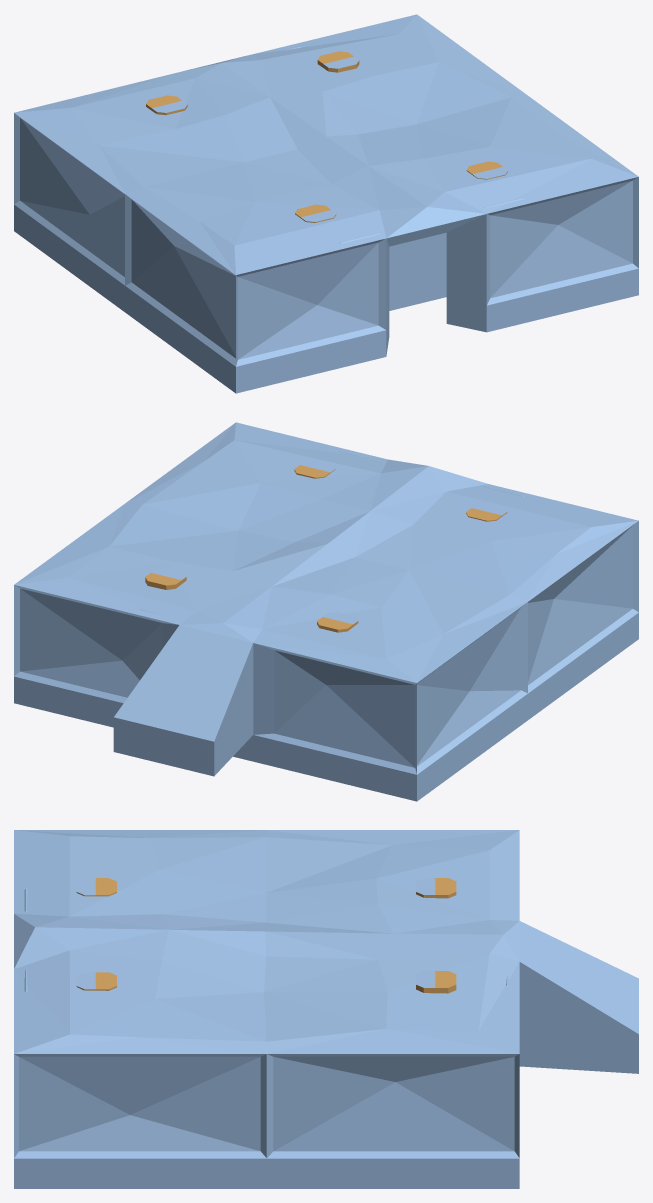
Rendered from vRoom_New.fbx.
The picture shows the model from 3 angles, top to bottom: view 1: azimuth 30°, elevation 25°; view 2: azimuth 150°, elevation 25°; view 3: azimuth 270°, elevation 25°; orthographic projection. The views are drawn at different scales.
Visible parts, largest first — view 1: GemRoom_Base; view 2: GemRoom_Base; view 3: GemRoom_Base.
Part boxes in pixels (x1,y1,x2,y2): GemRoom_Base: [14, 14, 638, 393]; GemRoom_Base: [14, 422, 638, 801]; GemRoom_Base: [14, 830, 638, 1188].
Bounding box in the file's own units: 69.42 × 21.56 × 81.84.
